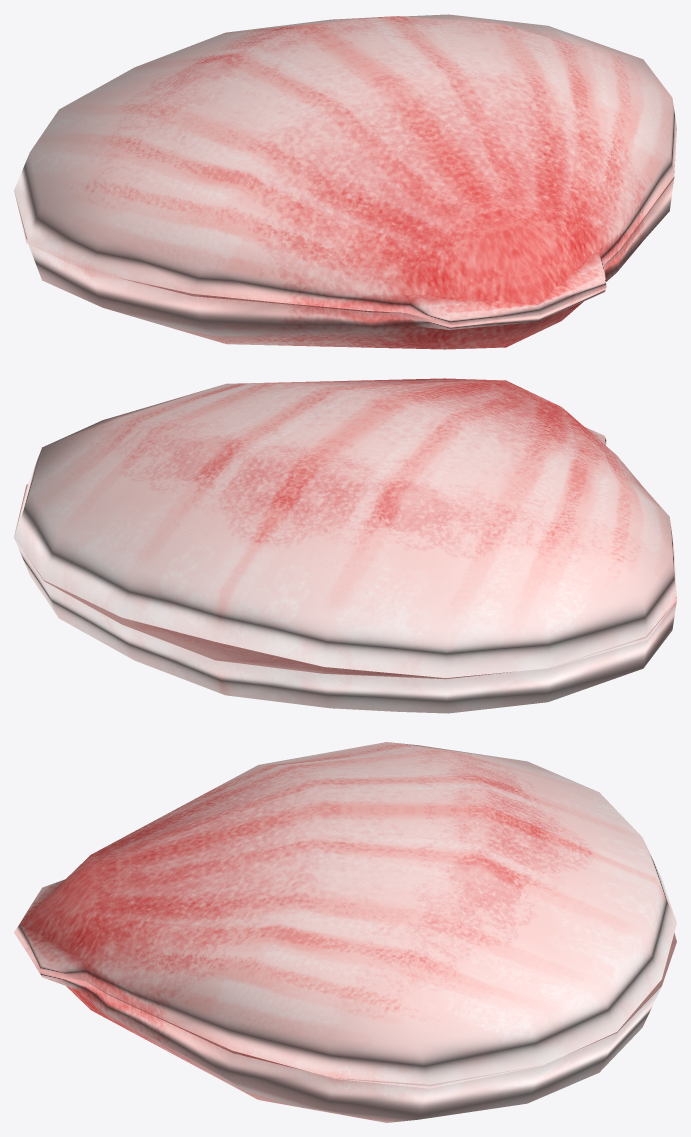
The model's file is kai.fbx.
3 renders of one model, top to bottom at view 1: azimuth 30°, elevation 25°; view 2: azimuth 150°, elevation 25°; view 3: azimuth 270°, elevation 25°, orthographic.
Parts seen in each view (by area): view 1: kai; view 2: kai; view 3: kai.
Boxes of the visible parts, x1,y1,x2,y2 form: kai: [14, 14, 676, 349]; kai: [14, 378, 676, 713]; kai: [14, 742, 676, 1122].
Bounding box in the file's own units: 36.08 × 13.52 × 32.78.
